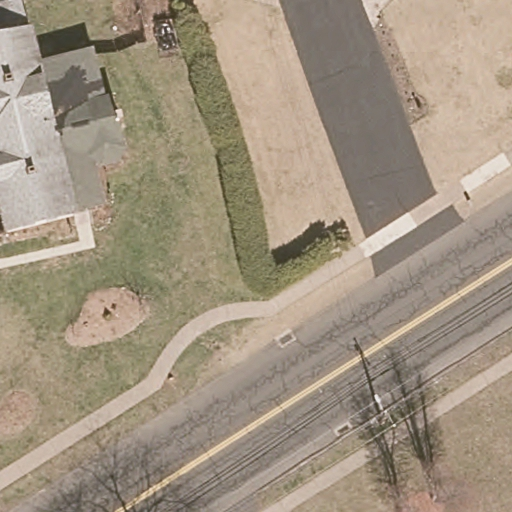DT: (370, 392, 397, 428)
